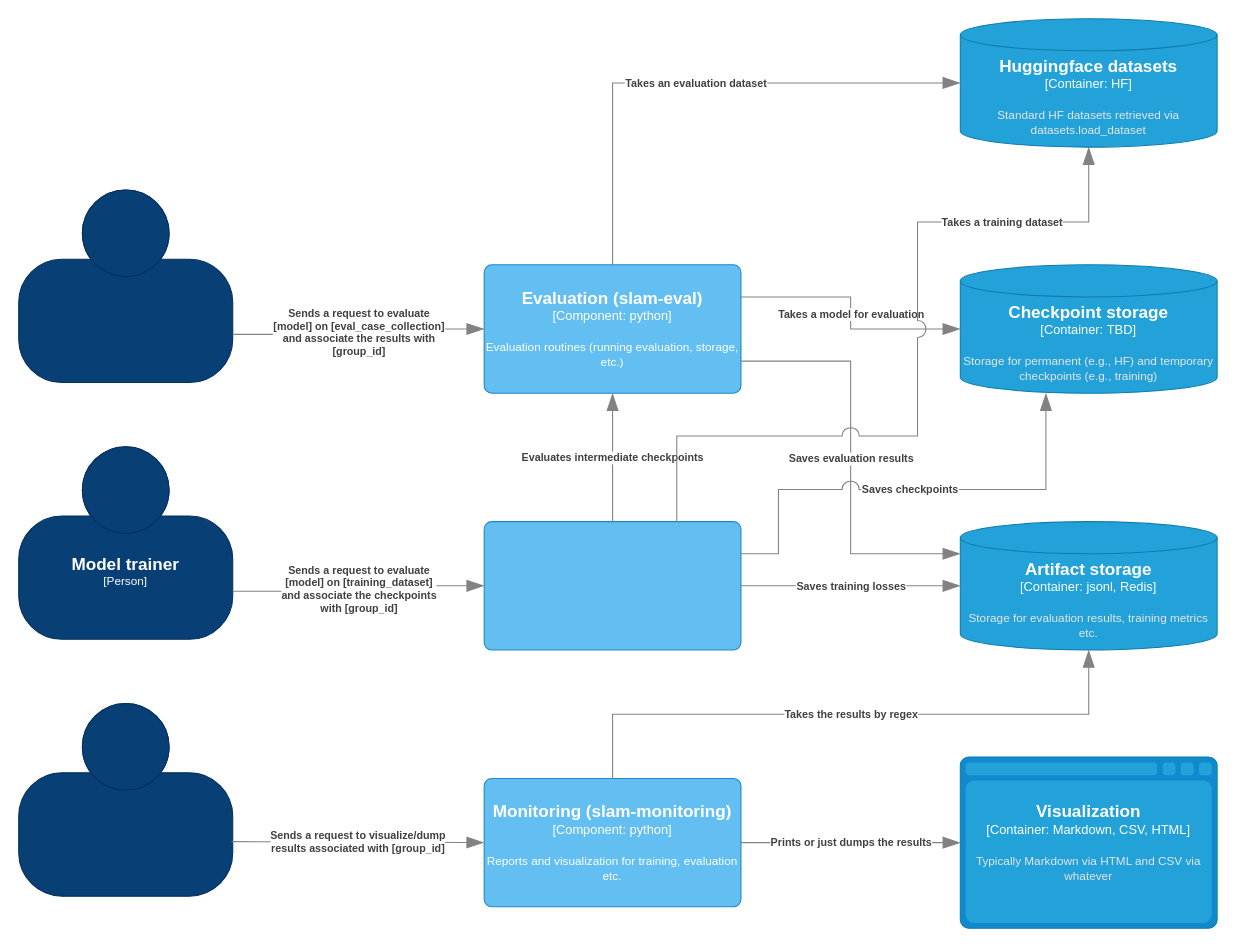
Image size: 1236x947. Some labels were removed from this diagram. The shapes that lost their labels are listed below. From the top down, each one's box as (x1, y1, x2, y2) in pixels, then its label:
(18, 189, 233, 383): Experiment runner [Person]
(483, 521, 741, 650): Training (TBD) [Component: python] Training routines (TBD)
(18, 702, 233, 896): Result observer [Person]
